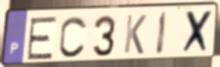3: (92, 14, 118, 59)
C: (57, 15, 89, 60)
E: (25, 15, 59, 62)
I: (154, 10, 169, 57)
K: (122, 14, 148, 56)
X: (180, 8, 214, 56)
